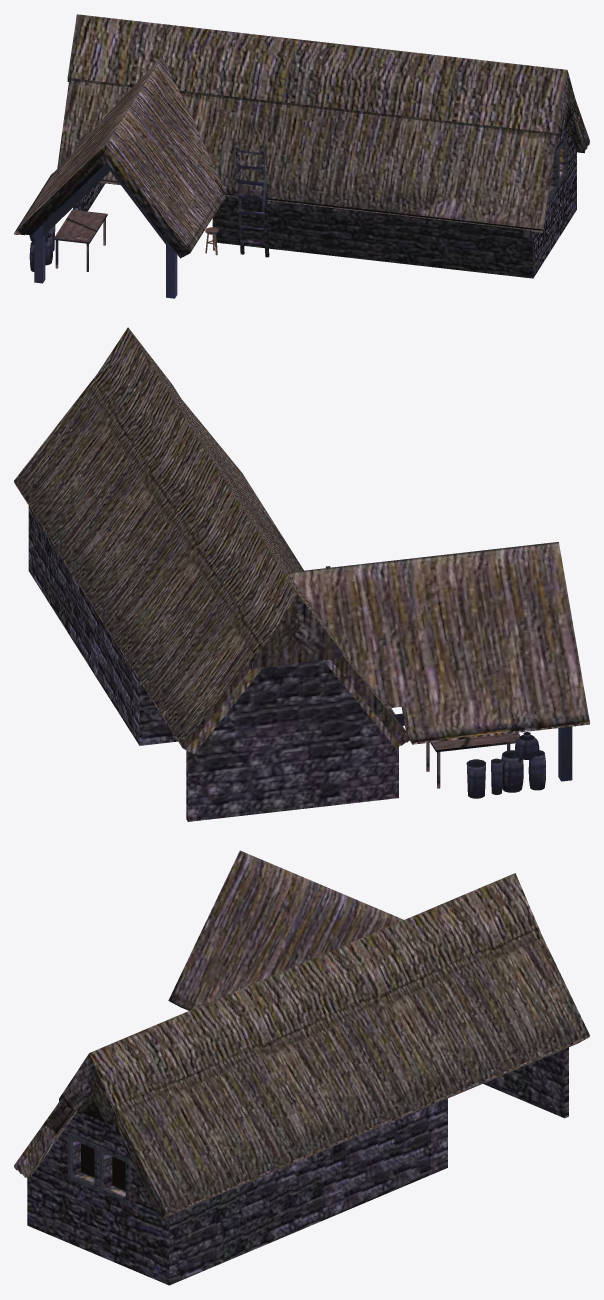
Rendered from griswolds-forge_textured.glb.
The picture shows the model from 3 angles, top to bottom: view 1: azimuth 30°, elevation 25°; view 2: azimuth 150°, elevation 25°; view 3: azimuth 270°, elevation 25°; orthographic projection. The views are drawn at different scales.
Parts seen in each view (by area): view 1: roofs, walls, frames; view 2: roofs, walls, frames; view 3: roofs, walls, frames, openings.
Boxes of the visible parts, <box> form: roofs: <box>14,14,589,258</box>; walls: <box>34,124,576,298</box>; frames: <box>29,134,567,271</box>; roofs: <box>14,327,589,754</box>; walls: <box>28,506,572,821</box>; frames: <box>394,713,545,798</box>; roofs: <box>14,850,589,1219</box>; walls: <box>27,1047,568,1285</box>; frames: <box>68,1133,130,1204</box>; openings: <box>81,1143,125,1190</box>.
Size of the model in its own units: 12.69 by 4.15 by 10.44.
2 materials, 1 textured.
